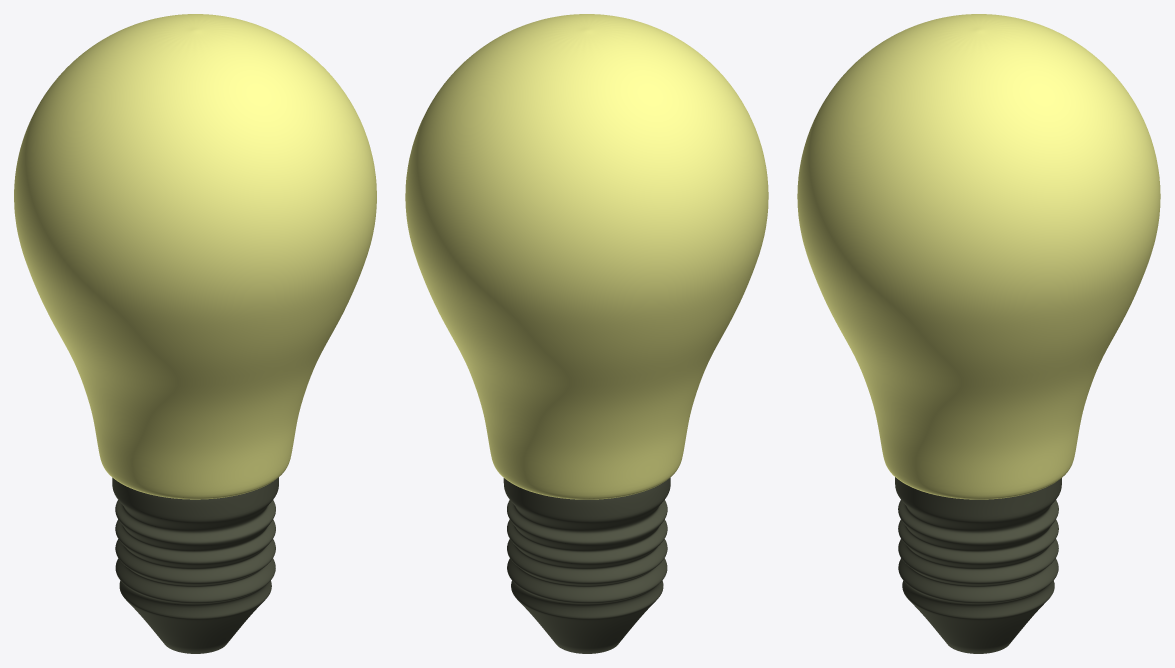
File: foco5.fbx
3 renders of one model, left to right at view 1: azimuth 30°, elevation 25°; view 2: azimuth 150°, elevation 25°; view 3: azimuth 270°, elevation 25°, orthographic.
Visible parts, largest first — view 1: ParteSuperiordel foco, foco; view 2: ParteSuperiordel foco, foco; view 3: ParteSuperiordel foco, foco.
Part boxes in pixels (bbox=[...]): ParteSuperiordel foco: bbox=[14, 14, 376, 499]; foco: bbox=[112, 477, 278, 653]; ParteSuperiordel foco: bbox=[405, 14, 768, 499]; foco: bbox=[503, 477, 670, 653]; ParteSuperiordel foco: bbox=[797, 14, 1160, 499]; foco: bbox=[895, 477, 1061, 653].
Size of the model in its own units: 250 by 463 by 250.
